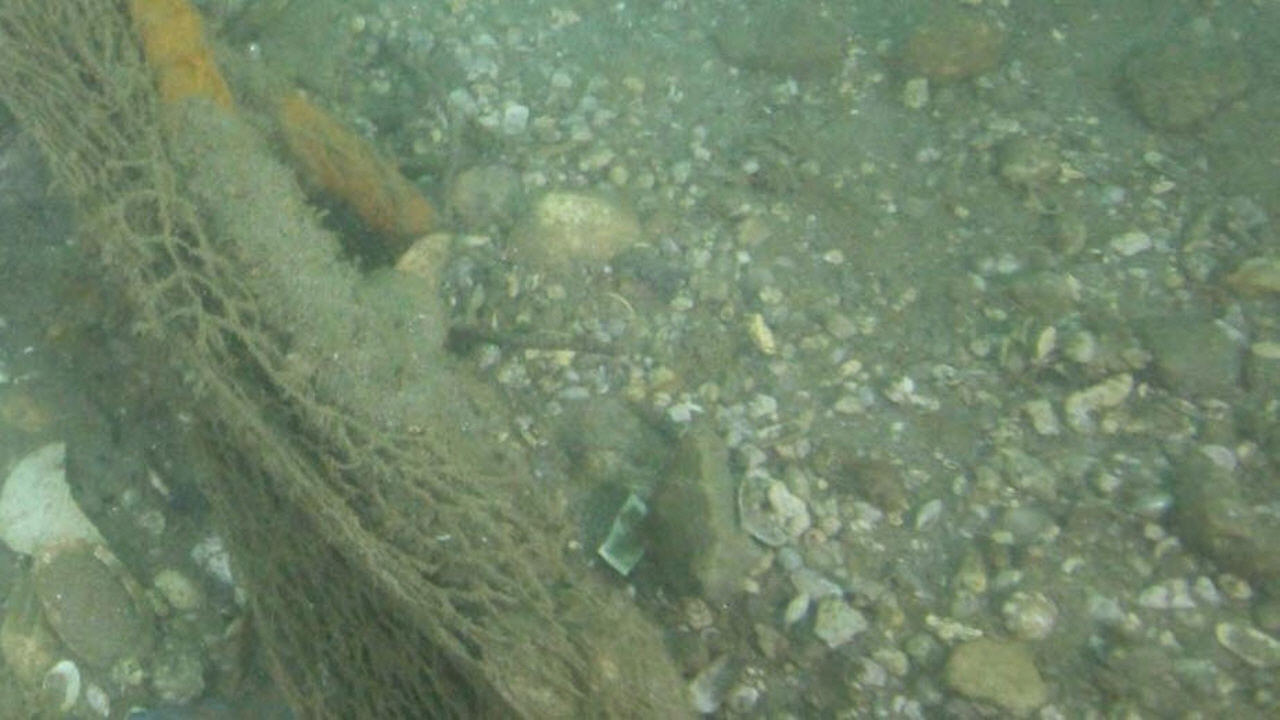fish net: (1, 4, 589, 720)
